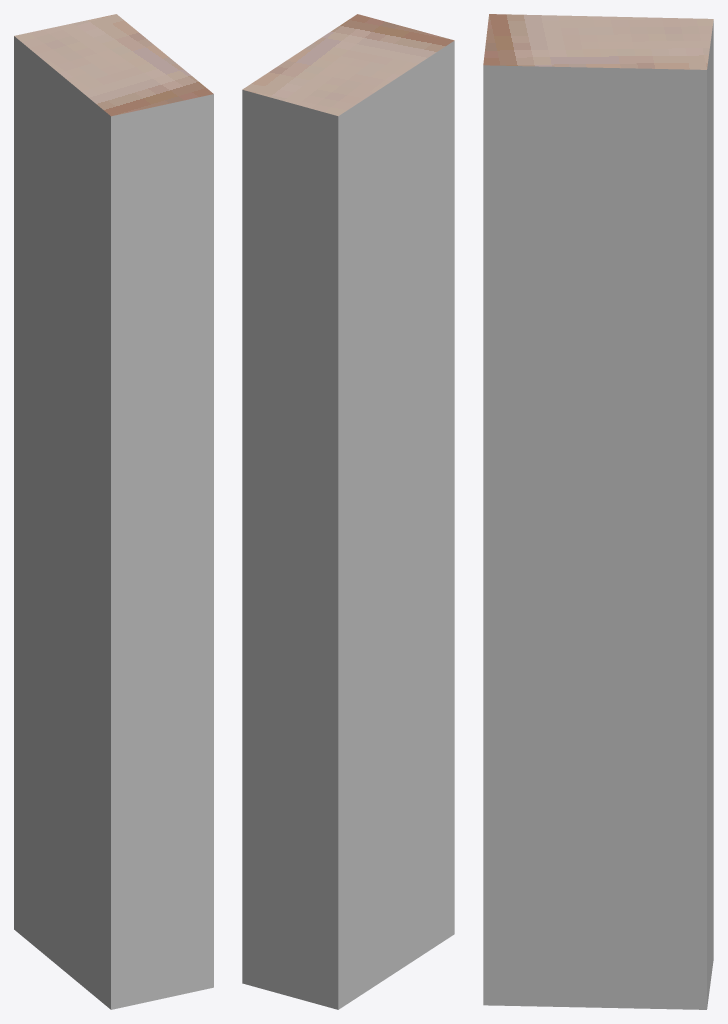
Rendered from DEBW_0010007THW8.gltf.
3 views of the same model, side by side, from view 1: azimuth 30°, elevation 25°; view 2: azimuth 150°, elevation 25°; view 3: azimuth 270°, elevation 25° (orthographic). The views are drawn at different scales.
Visible parts, largest first — view 1: Z_UP; view 2: Z_UP; view 3: Z_UP.
Boxes of the visible parts, x1=… form: Z_UP: x1=14, y1=14, x2=213, y2=1009; Z_UP: x1=242, y1=14, x2=454, y2=1009; Z_UP: x1=483, y1=14, x2=713, y2=1009.
Bounding box in the file's own units: 1.58 × 12.38 × 2.75.
Materials: 2 (1 with a texture image).
